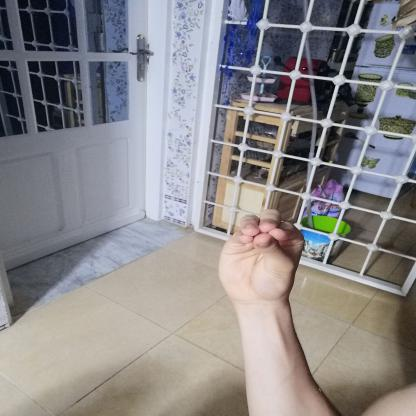HA: (202, 200, 324, 311)
